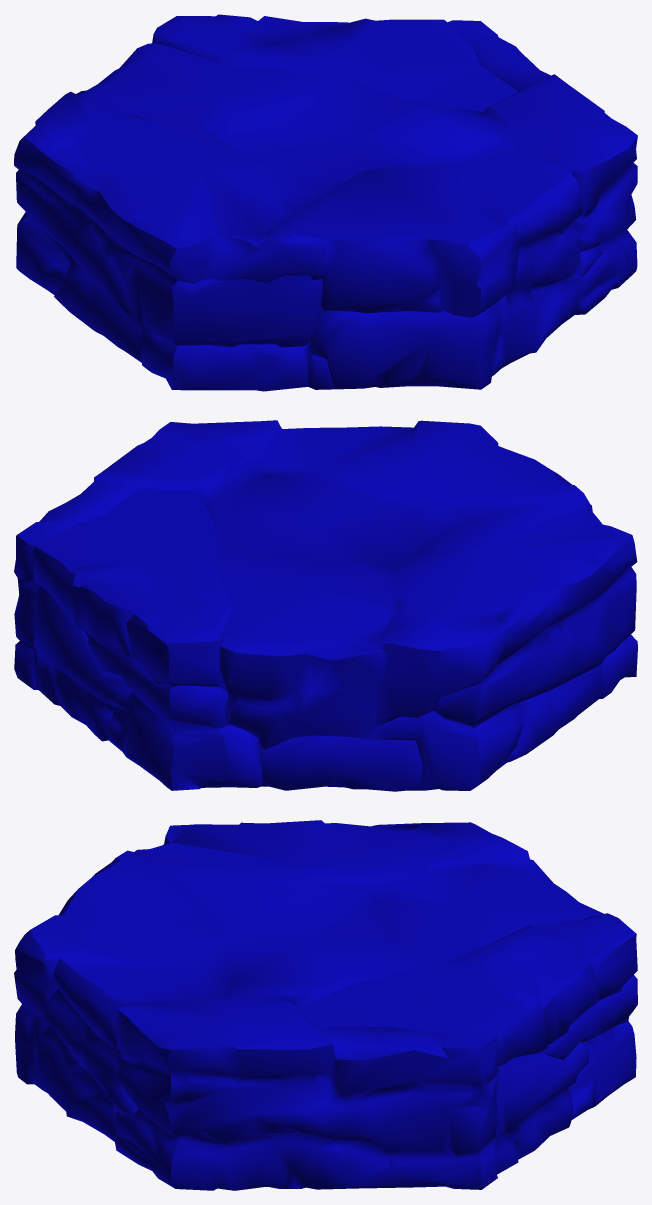
Rendered from SM_Hex_Flat_01.fbx.
3 views of the same model, one above another, from view 1: azimuth 30°, elevation 25°; view 2: azimuth 150°, elevation 25°; view 3: azimuth 270°, elevation 25° (orthographic).
Parts seen in each view (by area): view 1: SM_Hex_Flat_01; view 2: SM_Hex_Flat_01; view 3: SM_Hex_Flat_01.
Part boxes in pixels (bbox=[...]): SM_Hex_Flat_01: bbox=[14, 14, 637, 391]; SM_Hex_Flat_01: bbox=[14, 420, 637, 791]; SM_Hex_Flat_01: bbox=[14, 820, 637, 1190].
Bounding box in the file's own units: 176 × 53.77 × 202.
